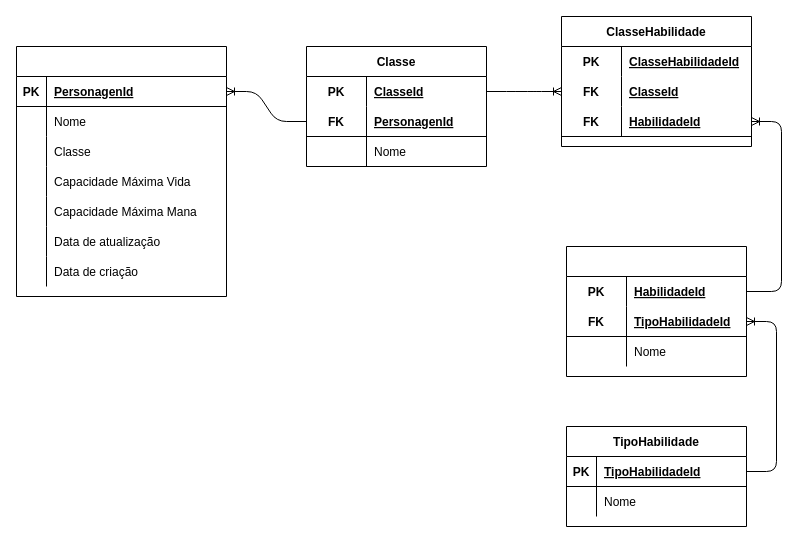
The diagram is 798 pixels wide and 543 high, and some of its shapes have lost their labels. Each missing label, with the box of its shape:
Habilididae: (566, 246, 746, 376)
Personagem: (16, 46, 226, 296)
